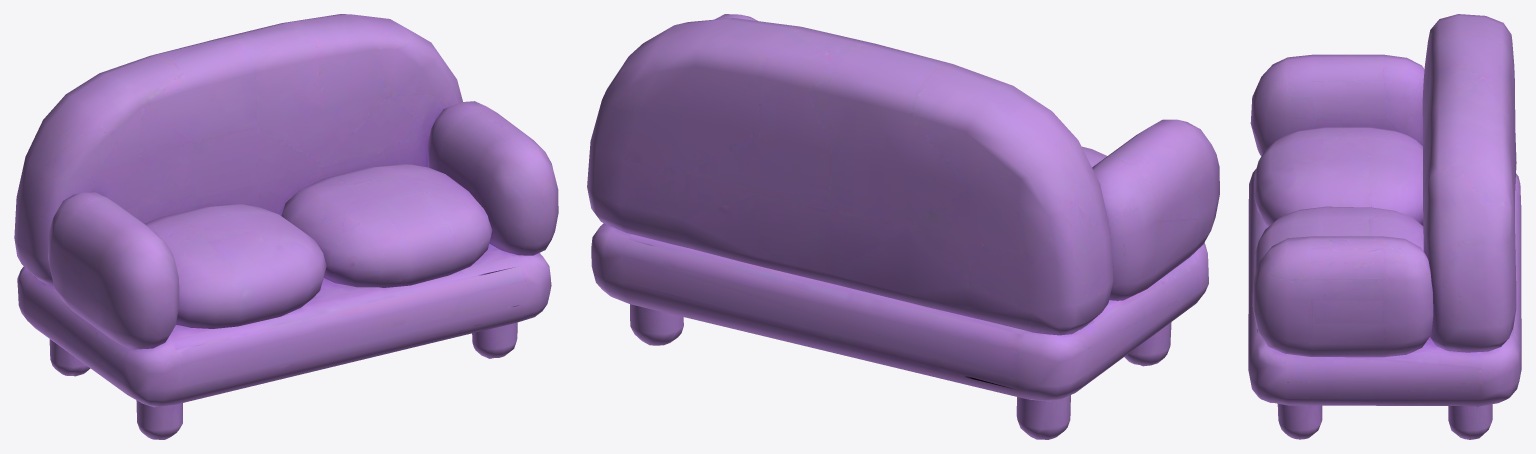
The model's file is sofa.glb.
3 views of the same model, side by side, from view 1: azimuth 30°, elevation 25°; view 2: azimuth 150°, elevation 25°; view 3: azimuth 270°, elevation 25° (orthographic). The views are drawn at different scales.
Visible parts, largest first — view 1: geometry_0; view 2: geometry_0; view 3: geometry_0.
Part boxes in pixels (x1,y1,x2,y2): geometry_0: (14,14,558,439); geometry_0: (587,14,1219,439); geometry_0: (1248,14,1521,439).
Size of the model in its own units: 1 by 0.6378 by 0.5451.
1 material, 1 textured.
